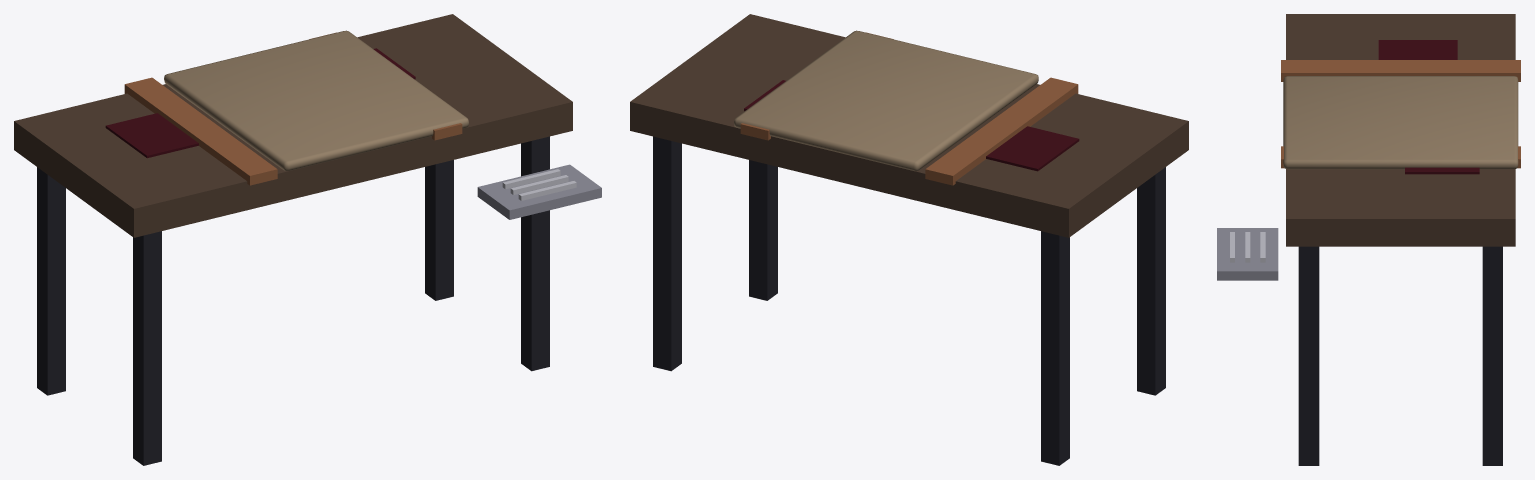
The model's file is surgery_table.glb.
3 views of the same model, side by side, from view 1: azimuth 30°, elevation 25°; view 2: azimuth 150°, elevation 25°; view 3: azimuth 270°, elevation 25° (orthographic). The views are drawn at different scales.
Visible parts, largest first — view 1: surgery_table; view 2: surgery_table; view 3: surgery_table.
Boxes of the visible parts, x1,y1,x2,y2 form: surgery_table: (14, 14, 601, 465); surgery_table: (630, 14, 1188, 465); surgery_table: (1217, 14, 1520, 465).
Bounding box in the file's own units: 0.95 × 0.57 × 0.595.
